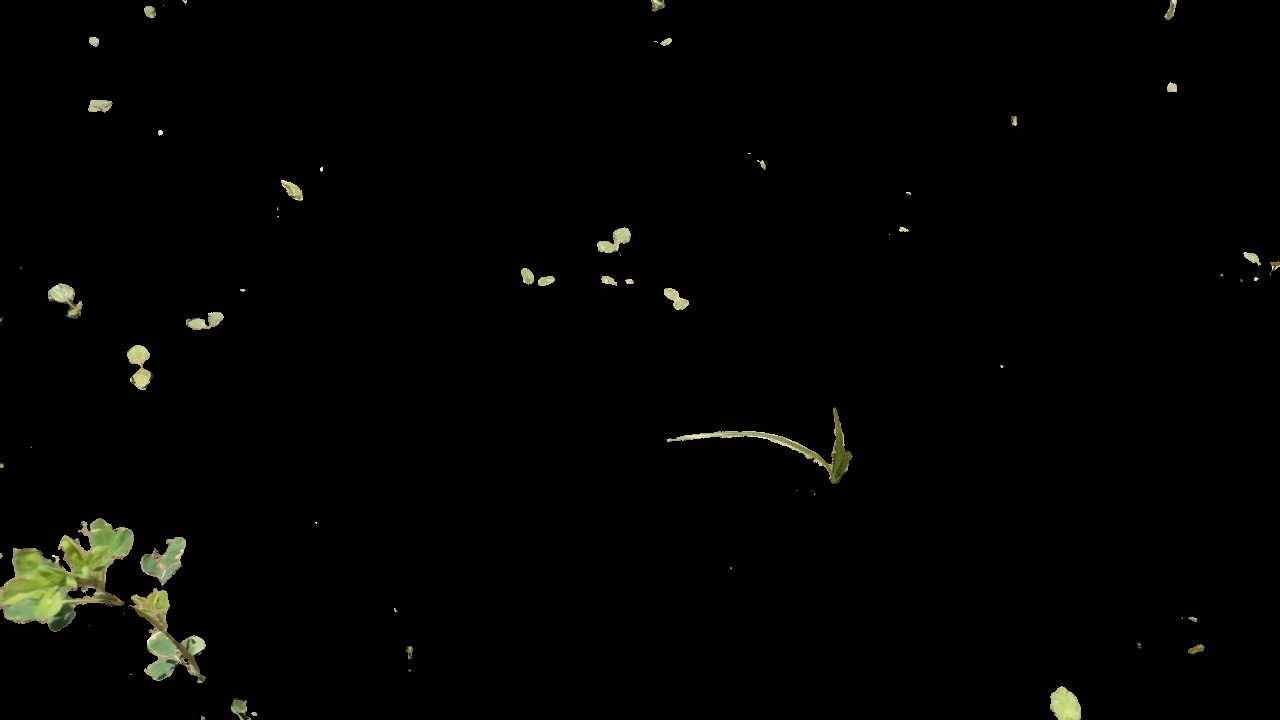weed: (5, 503, 219, 704), (660, 410, 867, 490), (42, 285, 94, 324), (1045, 678, 1092, 720), (118, 345, 156, 391), (589, 222, 642, 254), (518, 257, 563, 294), (1241, 248, 1280, 290), (185, 301, 231, 333), (268, 176, 305, 205), (654, 282, 690, 309)
